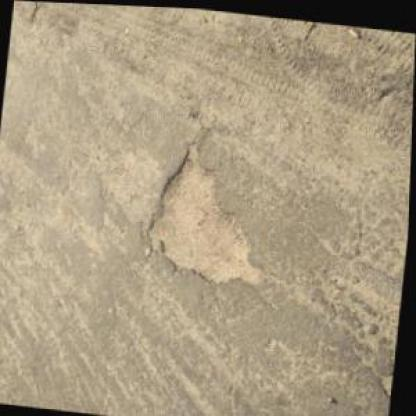pothole: (143, 133, 274, 291)
